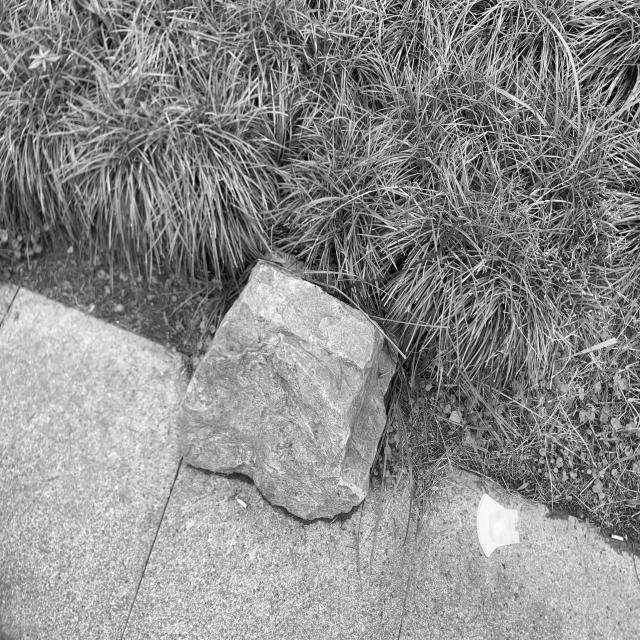Stone: (180, 262, 395, 520)
